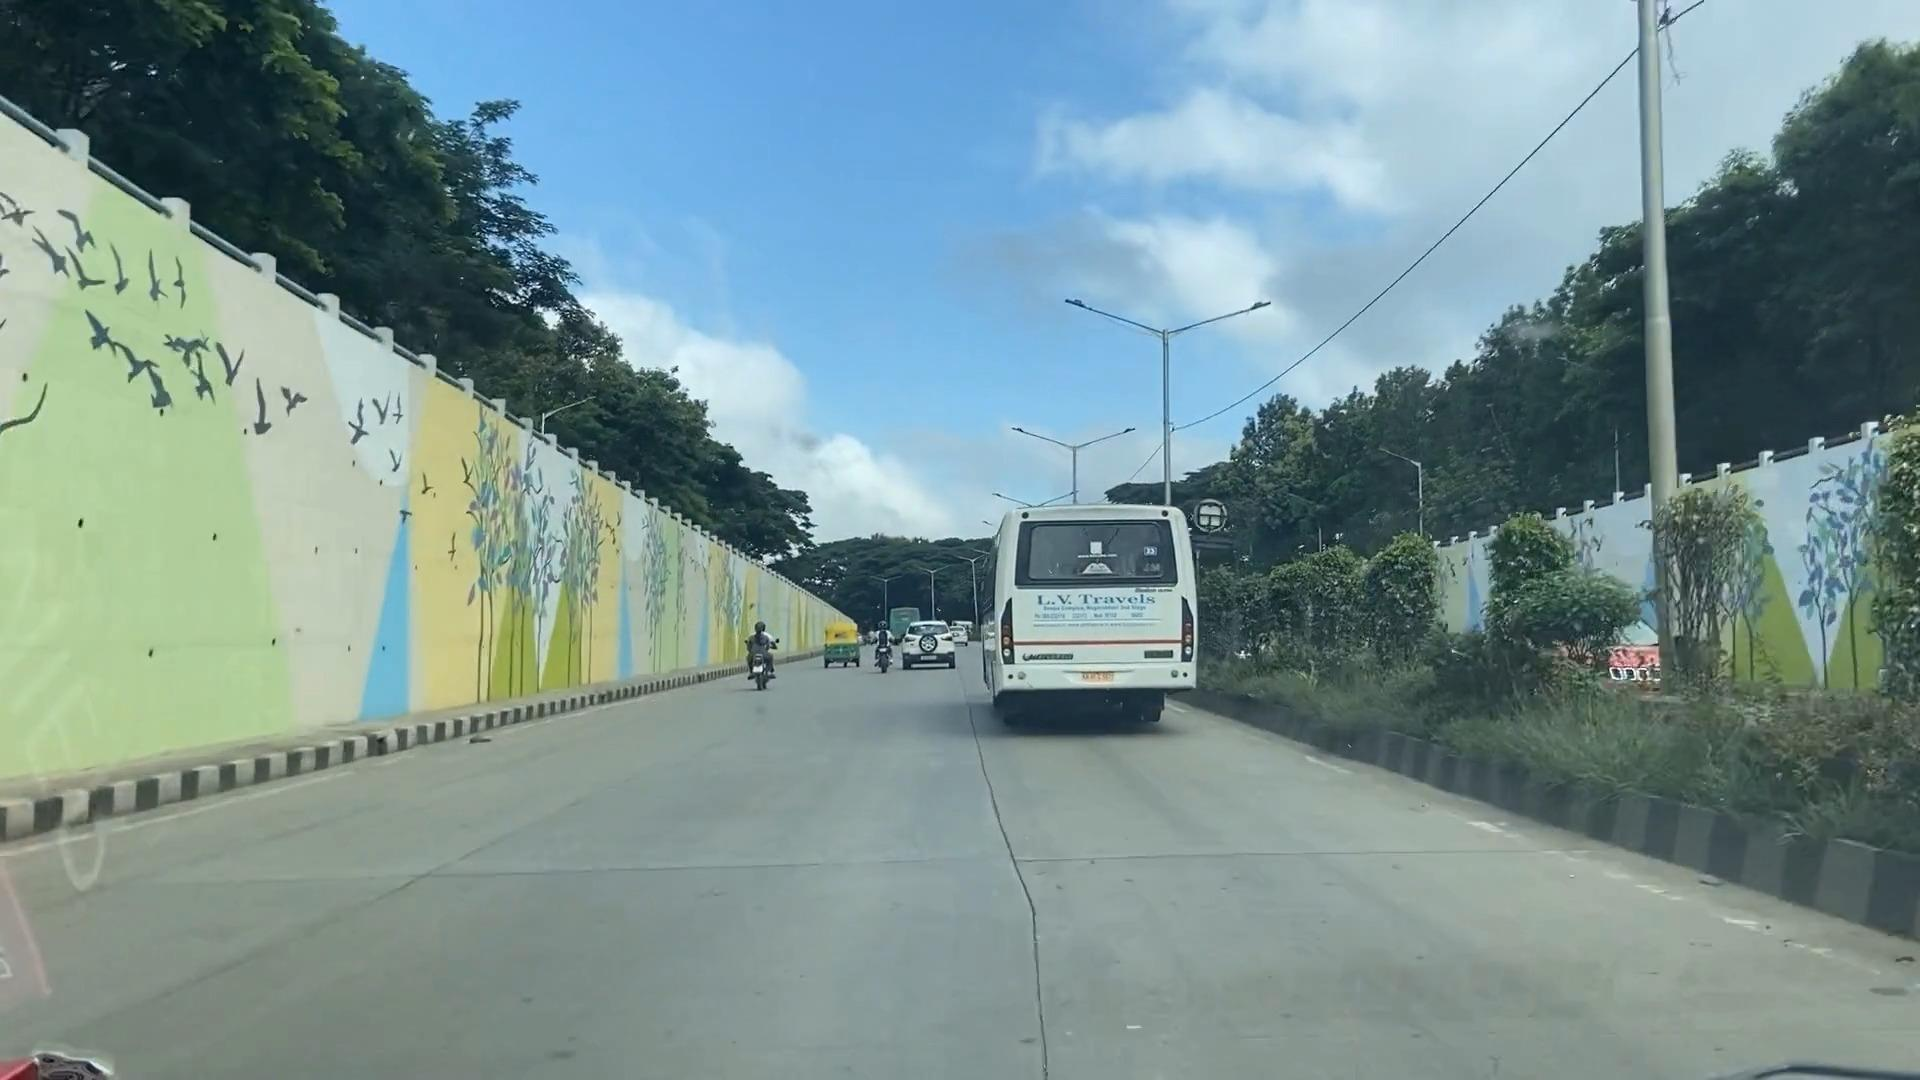HMV: (982, 516, 1193, 728)
